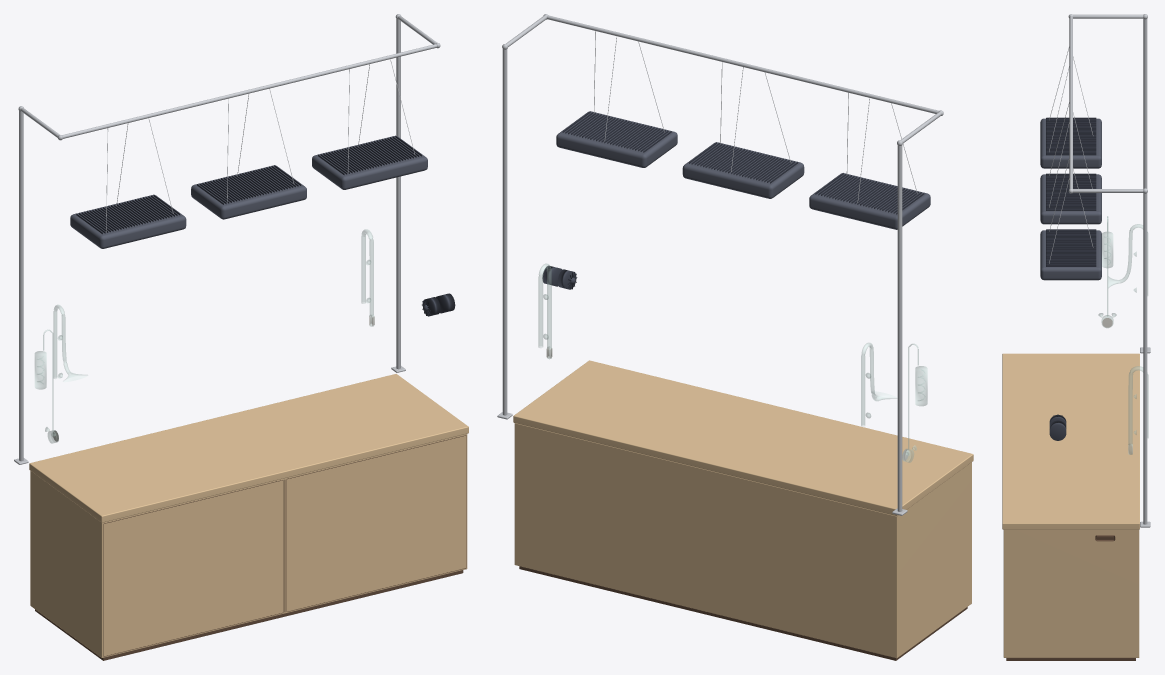
The model's file is equipment.glb.
The picture shows the model from 3 angles, left to right: view 1: azimuth 30°, elevation 25°; view 2: azimuth 150°, elevation 25°; view 3: azimuth 270°, elevation 25°; orthographic projection. The views are drawn at different scales.
Parts seen in each view (by area): view 1: cabinet_wood, lamp_body, lamp_fins, stand_metal, cabinet_dark, glass_equipment, lamp_wire; view 2: cabinet_wood, lamp_body, stand_metal, lamp_fins, glass_equipment, cabinet_dark, lamp_wire; view 3: cabinet_wood, lamp_fins, stand_metal, lamp_body, glass_equipment, lamp_wire, cabinet_dark, pump_body.
Part boxes in pixels (<box>): cabinet_wood: <box>29,374,468,657</box>; lamp_body: <box>70,136,427,248</box>; lamp_fins: <box>76,135,421,234</box>; stand_metal: <box>14,14,440,464</box>; cabinet_dark: <box>35,435,466,660</box>; glass_equipment: <box>35,229,373,443</box>; lamp_wire: <box>106,59,415,232</box>; cabinet_wood: <box>513,360,973,658</box>; lamp_body: <box>556,111,930,229</box>; stand_metal: <box>497,14,943,515</box>; lamp_fins: <box>562,111,924,214</box>; glass_equipment: <box>538,263,927,462</box>; cabinet_dark: <box>519,566,967,660</box>; lamp_wire: <box>593,31,917,202</box>; cabinet_wood: <box>1002,353,1139,657</box>; lamp_fins: <box>1046,117,1096,266</box>; stand_metal: <box>1068,14,1150,527</box>; lamp_body: <box>1040,118,1101,280</box>; glass_equipment: <box>1098,216,1148,454</box>; lamp_wire: <box>1049,47,1093,263</box>; cabinet_dark: <box>1006,535,1135,660</box>; pump_body: <box>1049,414,1066,440</box>.
Size of the model in its own units: 64.4 by 79.59 by 22.44.
